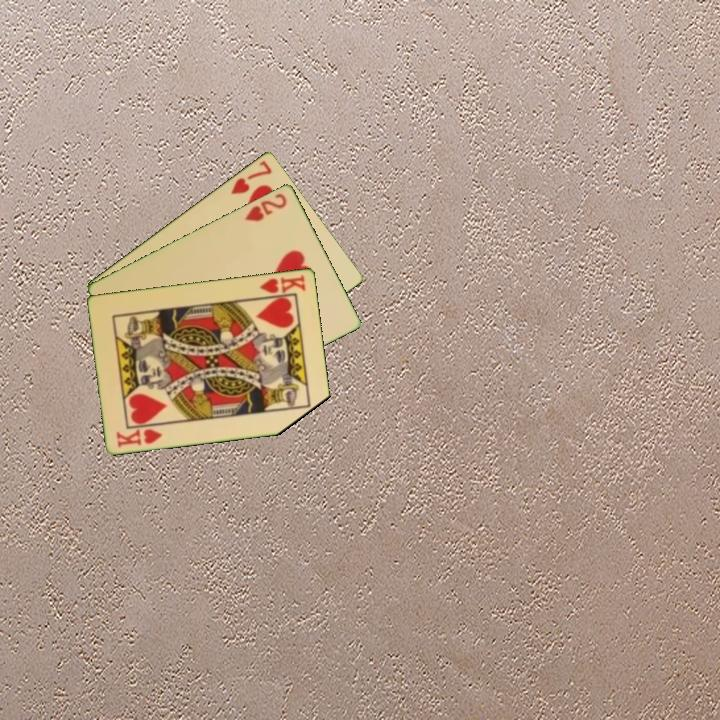2h: (241, 189, 290, 224)
7h: (227, 156, 275, 197)
Kh: (254, 271, 309, 300), (113, 425, 165, 450)
